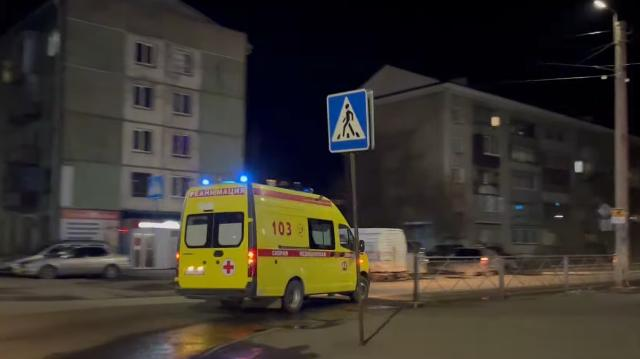intensive care unit: (176, 177, 370, 313)
non emergency car: (10, 240, 130, 282), (448, 247, 504, 279)
